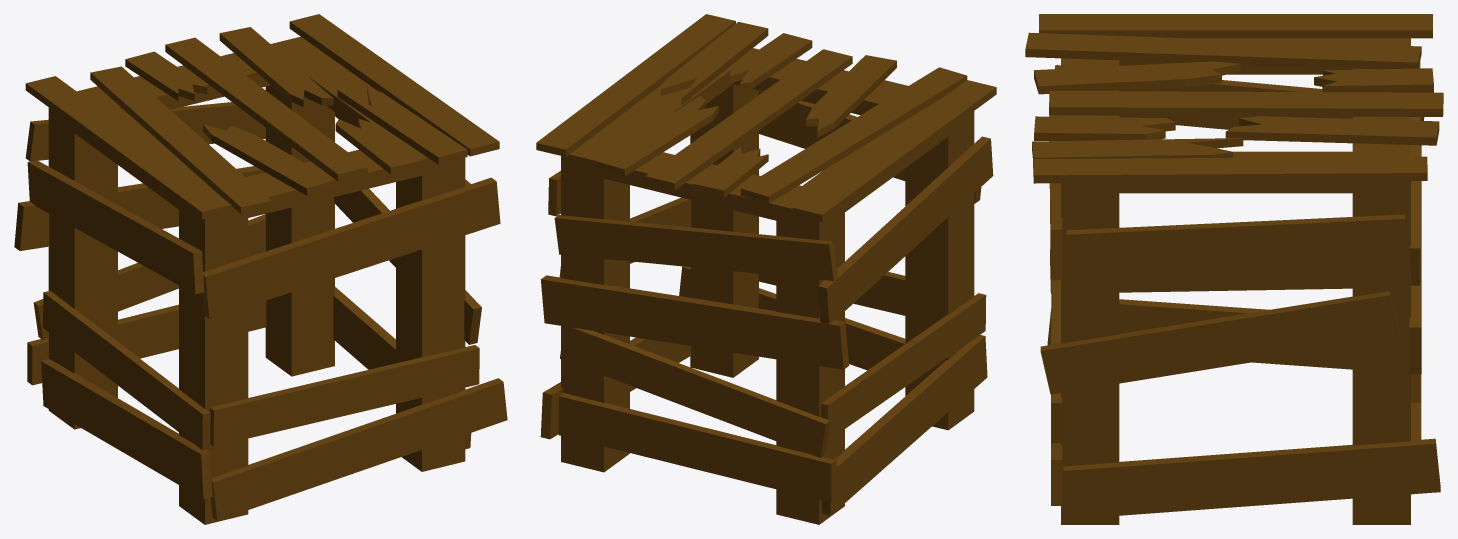
Rendered from Scaffolding (1).fbx.
3 renders of one model, left to right at view 1: azimuth 30°, elevation 25°; view 2: azimuth 150°, elevation 25°; view 3: azimuth 270°, elevation 25°, orthographic. The views are drawn at different scales.
Visible parts, largest first — view 1: Scaffolding; view 2: Scaffolding; view 3: Scaffolding.
Part boxes in pixels (left/top/right/bottom): Scaffolding: left=14, top=14, right=507, bottom=524; Scaffolding: left=536, top=14, right=996, bottom=524; Scaffolding: left=1025, top=14, right=1443, bottom=524.
Size of the model in its own units: 2.22 by 2.19 by 2.09.
